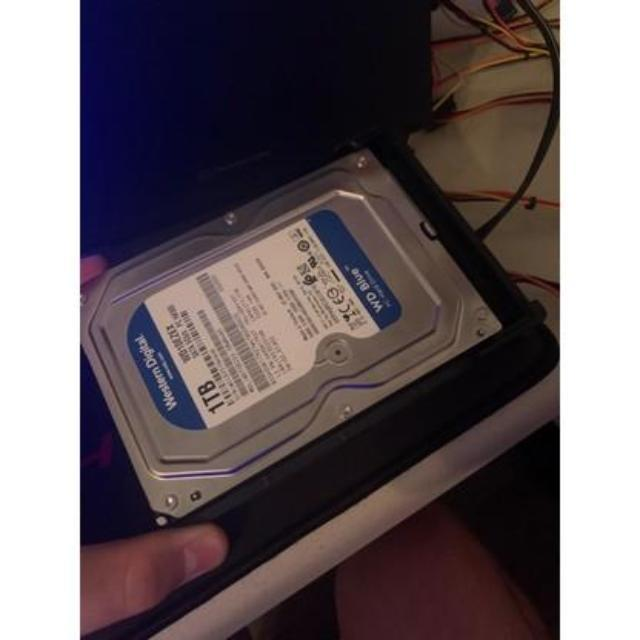DISK: (90, 156, 484, 498)
